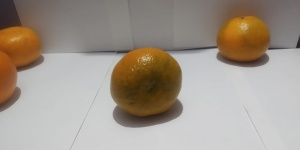BAD: (107, 47, 184, 118)
